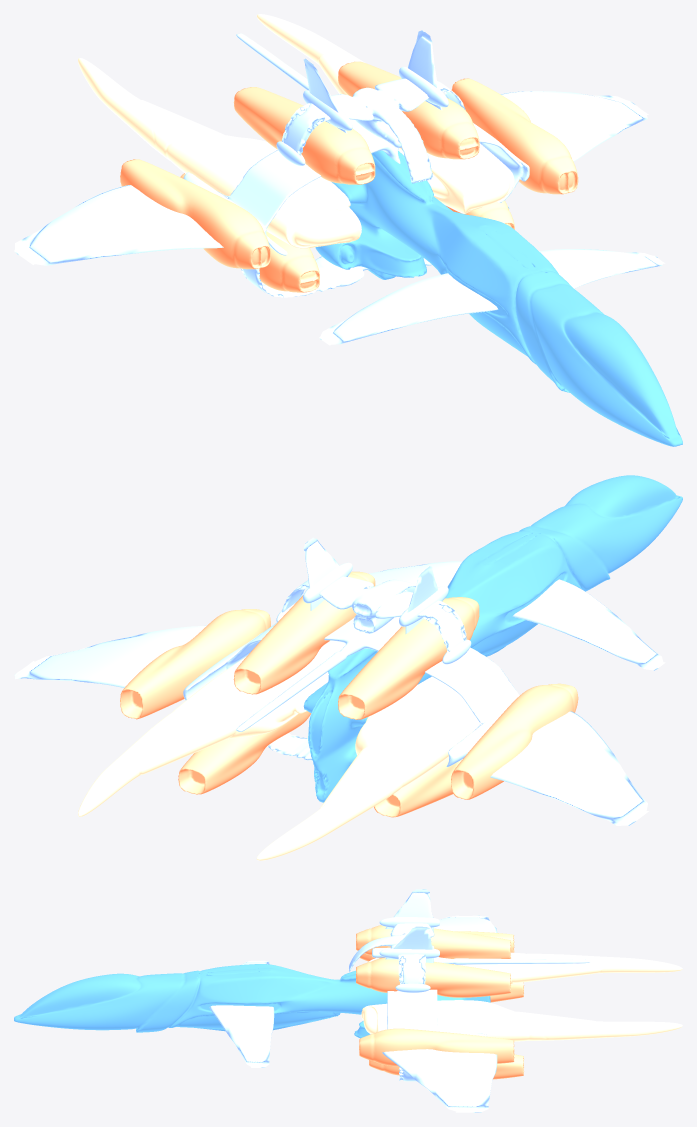
File: Fighter1.glb
3 renders of one model, top to bottom at view 1: azimuth 30°, elevation 25°; view 2: azimuth 150°, elevation 25°; view 3: azimuth 270°, elevation 25°, orthographic. The views are drawn at different scales.
Visible parts, largest first — view 1: Fighter hull, Right GUNARM, Cube.003, R2 starfold drive, DRive UNF arm, Left GUNARM, TopEGEN AM P004 array, L2 starfold drive, R3 starfold drive, Cube.001, Cube.002, L3 starfold drive (+8 smaller); view 2: Fighter hull, Right GUNARM, Left GUNARM, Cube.003, DRive UNF arm, L2 starfold drive, R3 starfold drive, R2 starfold drive, L3 starfold drive, Cube.002, Cube.001, TopEGEN AM P004 array (+8 smaller); view 3: Fighter hull, Left GUNARM, Cube.002, L3 starfold drive, L2 starfold drive, Right GUNARM, DRive UNF arm, Cube, R3 starfold drive, TopEGEN AM P004 array, Cube.003, Top right wing (+6 smaller).
Boxes of the visible parts, left/top/right/bottom form: Fighter hull: left=315, top=150, right=682, bottom=446; Right GUNARM: left=78, top=58, right=361, bottom=248; Cube.003: left=14, top=185, right=223, bottom=265; R2 starfold drive: left=120, top=159, right=270, bottom=269; DRive UNF arm: left=183, top=33, right=529, bottom=255; Left GUNARM: left=256, top=14, right=514, bottom=213; TopEGEN AM P004 array: left=282, top=78, right=465, bottom=183; L2 starfold drive: left=451, top=78, right=578, bottom=194; R3 starfold drive: left=233, top=87, right=375, bottom=184; Cube.001: left=319, top=273, right=498, bottom=345; Cube.002: left=501, top=91, right=648, bottom=161; L3 starfold drive: left=338, top=61, right=479, bottom=159; Fighter hull: left=303, top=475, right=682, bottom=802; Right GUNARM: left=256, top=676, right=479, bottom=860; Left GUNARM: left=78, top=640, right=345, bottom=816; Cube.003: left=490, top=711, right=648, bottom=825; DRive UNF arm: left=183, top=616, right=519, bottom=767; L2 starfold drive: left=120, top=609, right=270, bottom=719; R3 starfold drive: left=338, top=597, right=479, bottom=719; R2 starfold drive: left=451, top=683, right=578, bottom=799; L3 starfold drive: left=233, top=571, right=375, bottom=694; Cube.002: left=14, top=625, right=206, bottom=687; Cube.001: left=512, top=579, right=665, bottom=670; TopEGEN AM P004 array: left=282, top=576, right=466, bottom=652; Fighter hull: left=14, top=964, right=490, bottom=1038; Left GUNARM: left=361, top=1000, right=682, bottom=1041; Cube.002: left=382, top=1049, right=497, bottom=1112; L3 starfold drive: left=356, top=957, right=510, bottom=997; L2 starfold drive: left=359, top=1028, right=514, bottom=1066; Right GUNARM: left=368, top=952, right=682, bottom=984; DRive UNF arm: left=387, top=957, right=590, bottom=1036; Cube: left=209, top=1005, right=274, bottom=1067; R3 starfold drive: left=356, top=925, right=510, bottom=964; TopEGEN AM P004 array: left=348, top=923, right=434, bottom=984; Cube.003: left=433, top=915, right=497, bottom=932; Top right wing: left=385, top=889, right=433, bottom=931.
Bounding box in the file's own units: 32.45 × 10.96 × 46.55.
